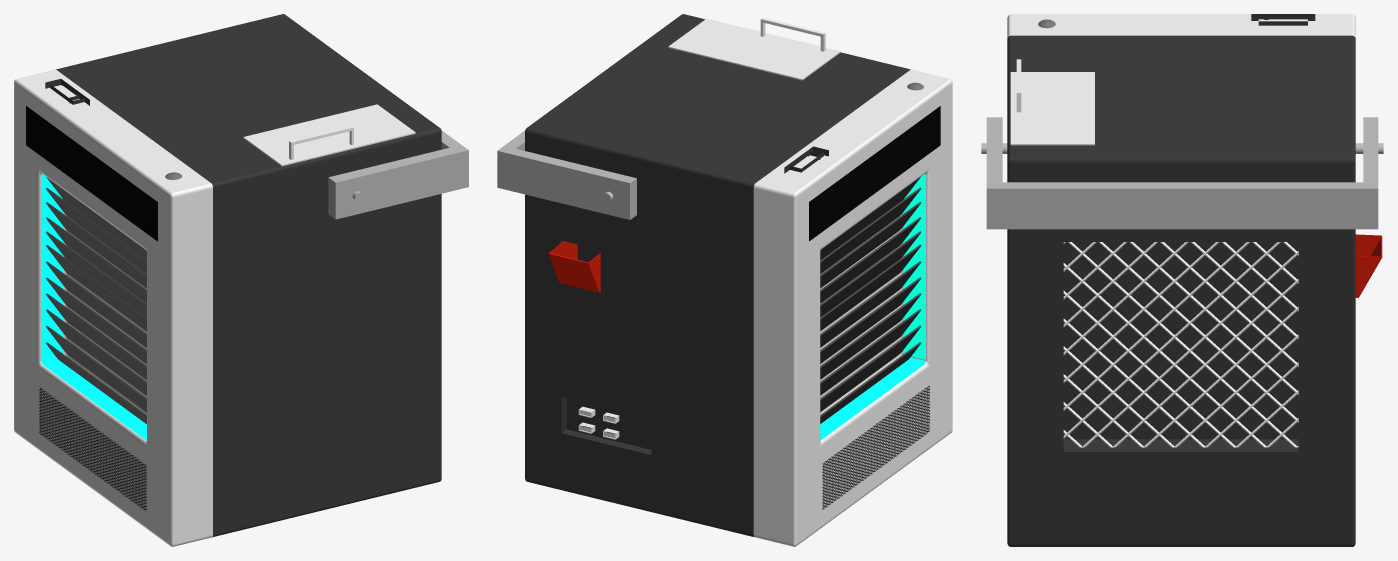
File: mini_air_cooler.glb
The picture shows the model from 3 angles, left to right: view 1: azimuth 30°, elevation 25°; view 2: azimuth 150°, elevation 25°; view 3: azimuth 270°, elevation 25°; orthographic projection. The views are drawn at different scales.
Visible parts, largest first — view 1: Cube.003_0, Cube.008_1; view 2: Cube.003_0, Cube.008_1; view 3: Cube.003_0, Cube.008_1.
Part boxes in pixels (box(x1,y1,x2,y2)): Cube.003_0: box(14, 14, 468, 546); Cube.008_1: box(243, 104, 415, 166); Cube.003_0: box(497, 14, 952, 546); Cube.008_1: box(668, 17, 840, 80); Cube.003_0: box(981, 14, 1383, 546); Cube.008_1: box(1010, 59, 1094, 145).
Bounding box in the file's own units: 2.51 × 3.1 × 2.76.
